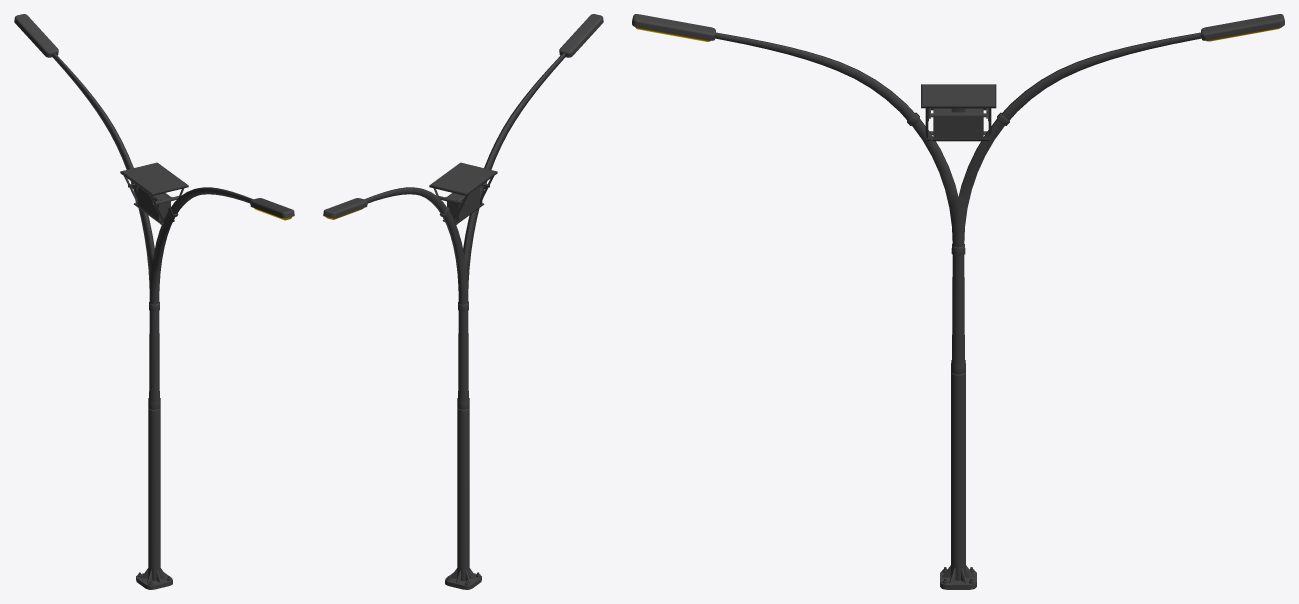
File: StreetLamp.fbx
The picture shows the model from 3 angles, left to right: view 1: azimuth 30°, elevation 25°; view 2: azimuth 150°, elevation 25°; view 3: azimuth 270°, elevation 25°; orthographic projection. The views are drawn at different scales.
Visible parts, largest first — view 1: StreetLamp; view 2: StreetLamp; view 3: StreetLamp.
Part boxes in pixels (x1,y1,x2,y2): StreetLamp: (14, 14, 294, 589); StreetLamp: (323, 14, 603, 589); StreetLamp: (632, 14, 1284, 589).
Bounding box in the file's own units: 0.8337 × 10.61 × 10.14.
